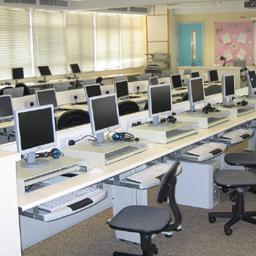Puerta: (179, 27, 202, 66)
Ventana: (2, 17, 142, 79)
